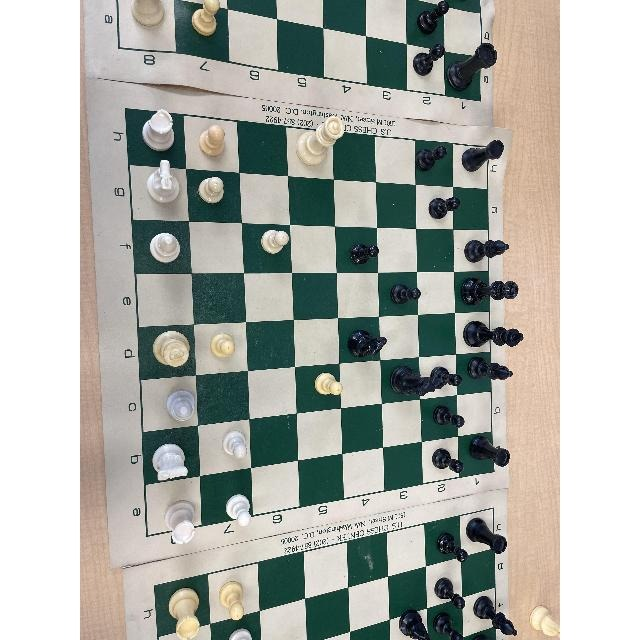black-bishop: (473, 594, 519, 637), (464, 239, 511, 265), (467, 357, 514, 383)
black-king: (462, 320, 525, 348)
black-knight: (386, 364, 437, 399), (398, 608, 434, 639), (351, 328, 386, 358)
black-pawn: (416, 0, 449, 34), (434, 577, 467, 611), (412, 44, 446, 75), (436, 531, 468, 563), (431, 447, 464, 477), (431, 402, 465, 431), (433, 610, 464, 639), (414, 145, 448, 171), (429, 366, 463, 392), (429, 196, 461, 220), (349, 242, 381, 266), (391, 283, 422, 305)
black-queen: (458, 276, 520, 308)
black-rook: (446, 41, 498, 93), (467, 518, 509, 556), (468, 435, 511, 469), (463, 139, 505, 171)
white-bishop: (164, 391, 196, 425), (149, 233, 180, 262)
white-king: (152, 330, 192, 368)
white-knight: (145, 160, 184, 206), (149, 443, 190, 481)
white-pawn: (192, 0, 222, 42), (217, 581, 247, 621), (261, 228, 291, 258), (199, 125, 225, 159), (227, 494, 253, 528), (224, 430, 250, 460), (198, 177, 224, 205), (209, 333, 237, 359), (314, 373, 343, 395)
white-queen: (296, 118, 344, 166)
white-rook: (166, 588, 201, 639), (164, 500, 198, 546), (142, 109, 176, 151), (126, 0, 167, 31)
